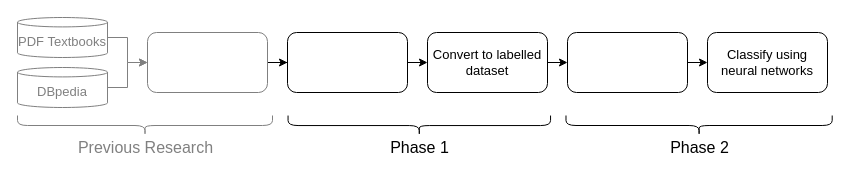
This 850x180 diagram has some shape labels left out. The centre of each missing label's shape, as x and y in pixels:
Create Textbook Knowledge Models: the point at 207,62
Integrate textbooks: the point at 347,62
Obtain BERT embeddings: the point at 627,62
